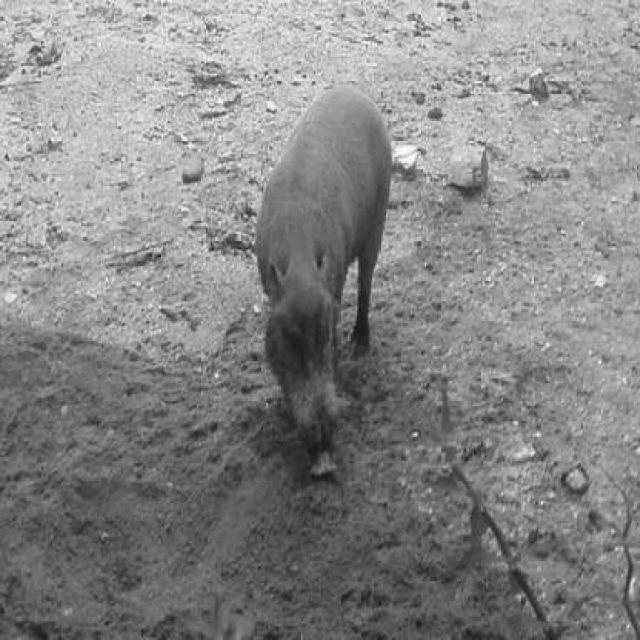Boar: (182, 92, 412, 511)
